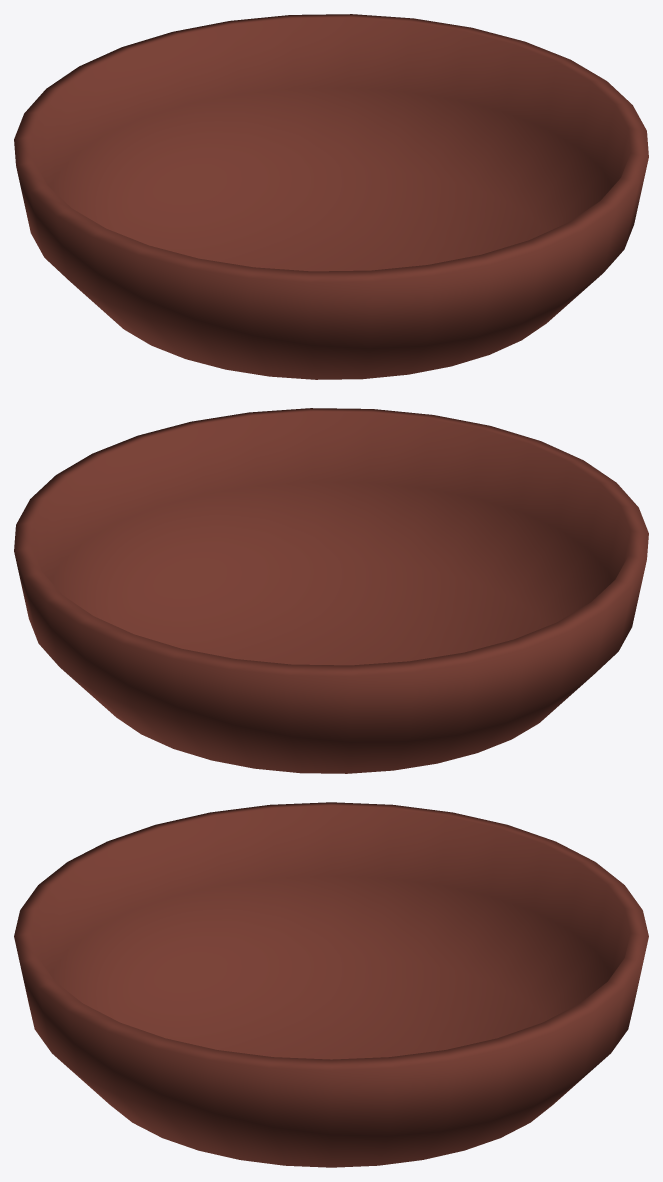
File: Plate.fbx
The picture shows the model from 3 angles, top to bottom: view 1: azimuth 30°, elevation 25°; view 2: azimuth 150°, elevation 25°; view 3: azimuth 270°, elevation 25°; orthographic projection.
Visible parts, largest first — view 1: Plate; view 2: Plate; view 3: Plate.
Boxes of the visible parts, left/top/right/bottom form: Plate: left=14, top=14, right=648, bottom=379; Plate: left=14, top=408, right=648, bottom=773; Plate: left=14, top=802, right=648, bottom=1167.
Size of the model in its own units: 25.38 by 7.79 by 25.38.
